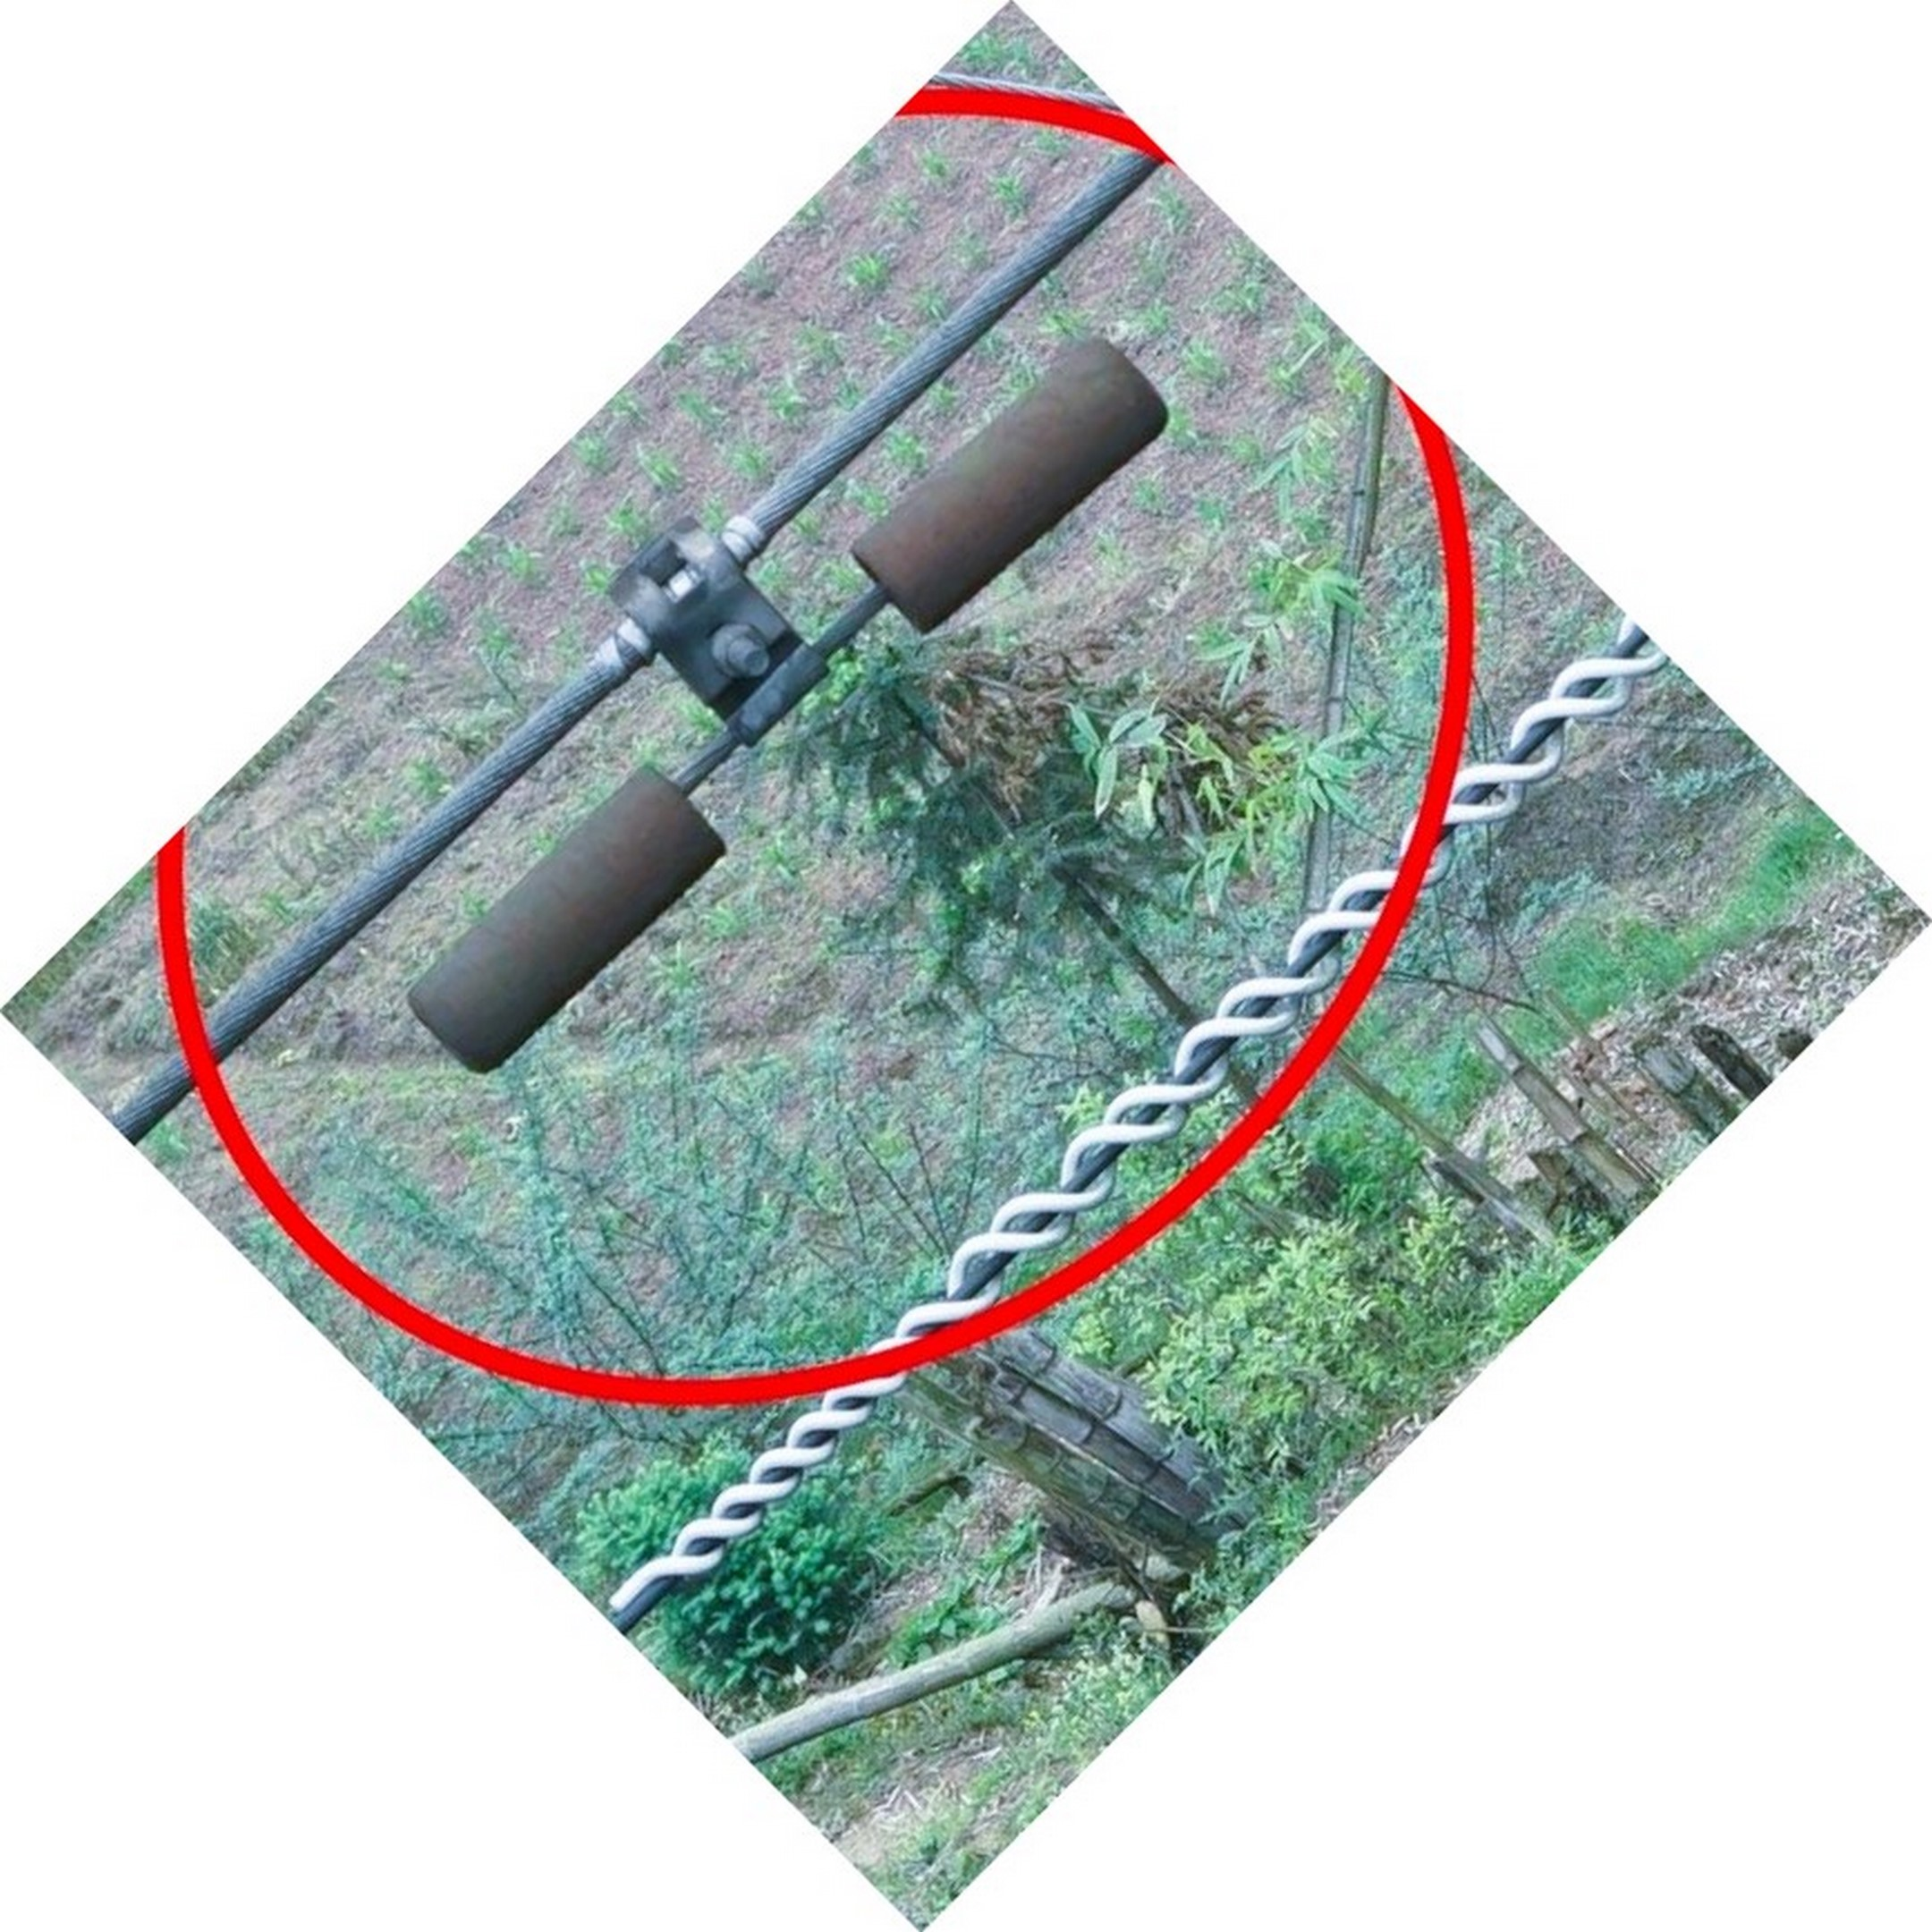Shockproof hammer: (364, 315, 1201, 1093)
